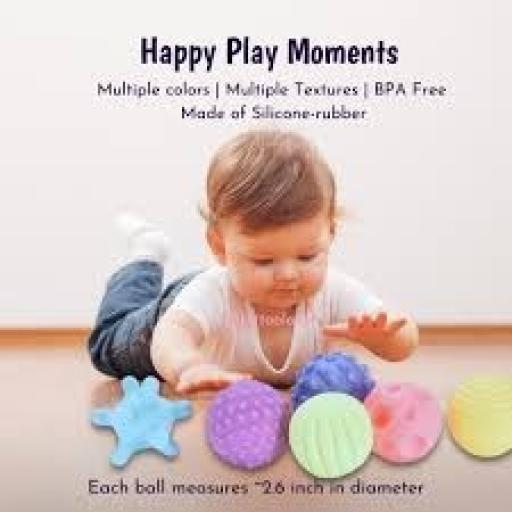baby: (89, 130, 418, 391)
